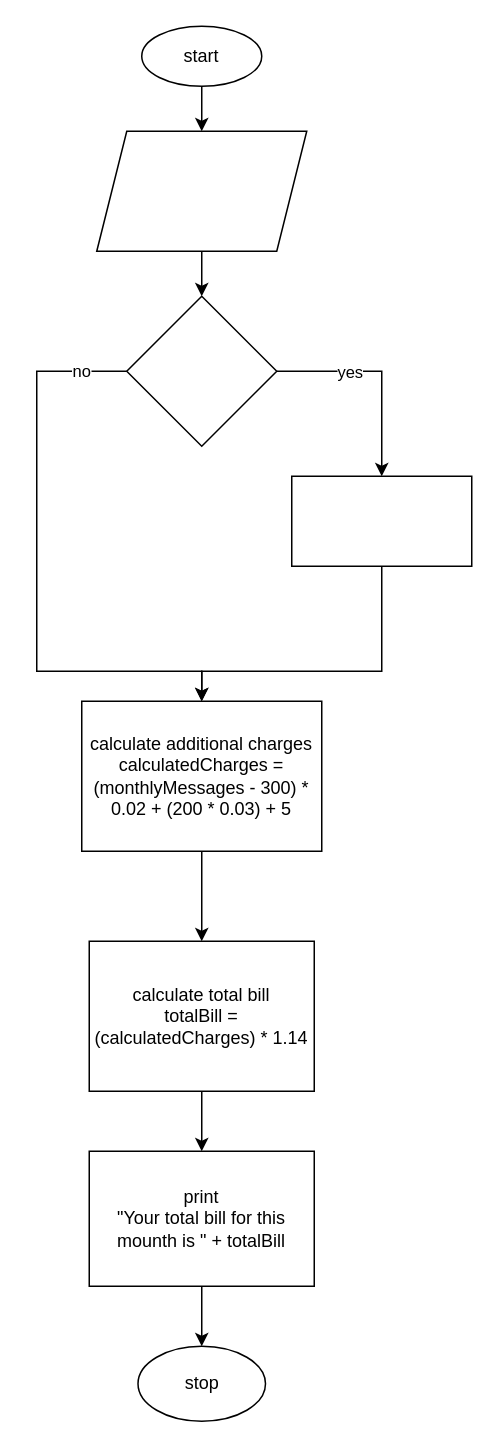
This 498x1448 diagram has some shape labels left out. Here are the shapes that lost their labels. From the top down, the centre of each, then its label:
At (x=201, y=190): "input mouthlyMessages".
At (x=201, y=370): "is number of messages <= 100?".
At (x=381, y=520): "bill = $5".
